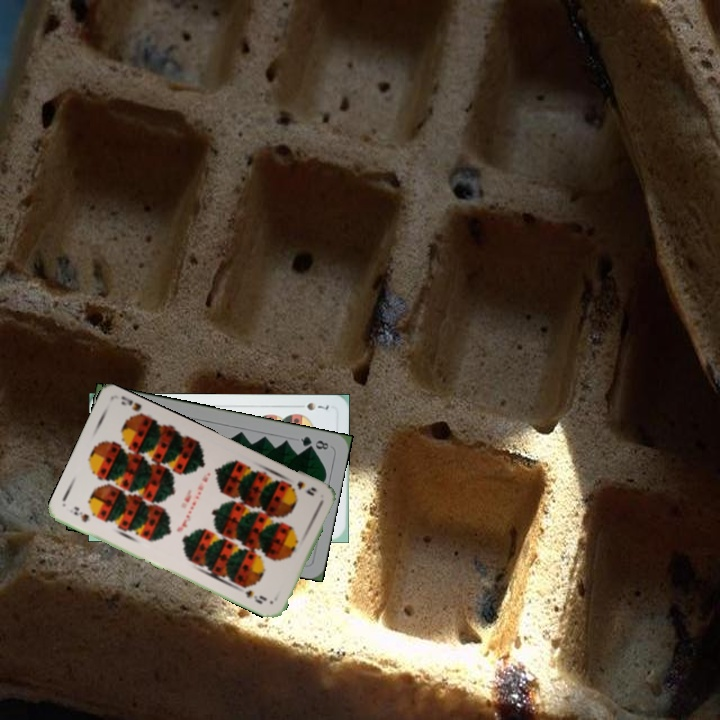G8: (296, 432, 331, 452)
S7: (292, 399, 332, 413)
S9: (282, 477, 320, 498), (69, 503, 92, 525)
